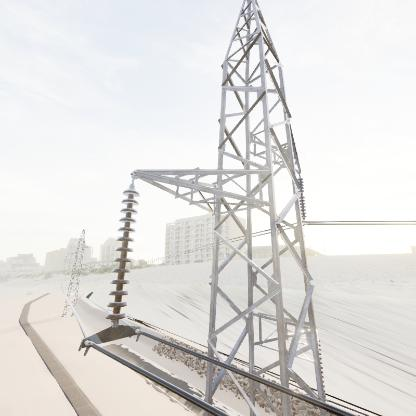insulator: (101, 186, 142, 326)
